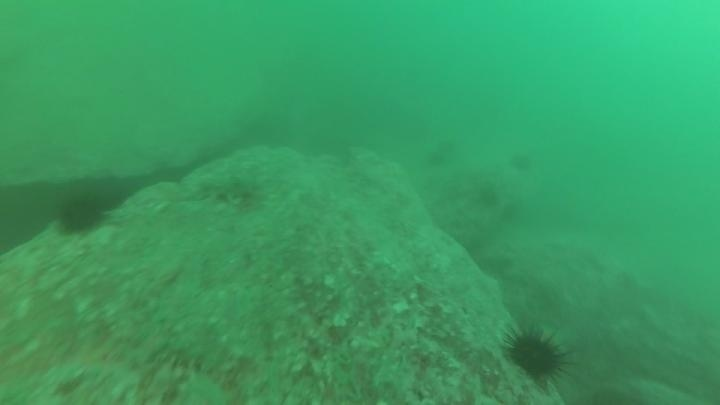echinus: (501, 322, 573, 386), (54, 192, 109, 237), (473, 181, 502, 210), (507, 149, 536, 175)
holothurian: (150, 335, 243, 381), (185, 170, 266, 207)
